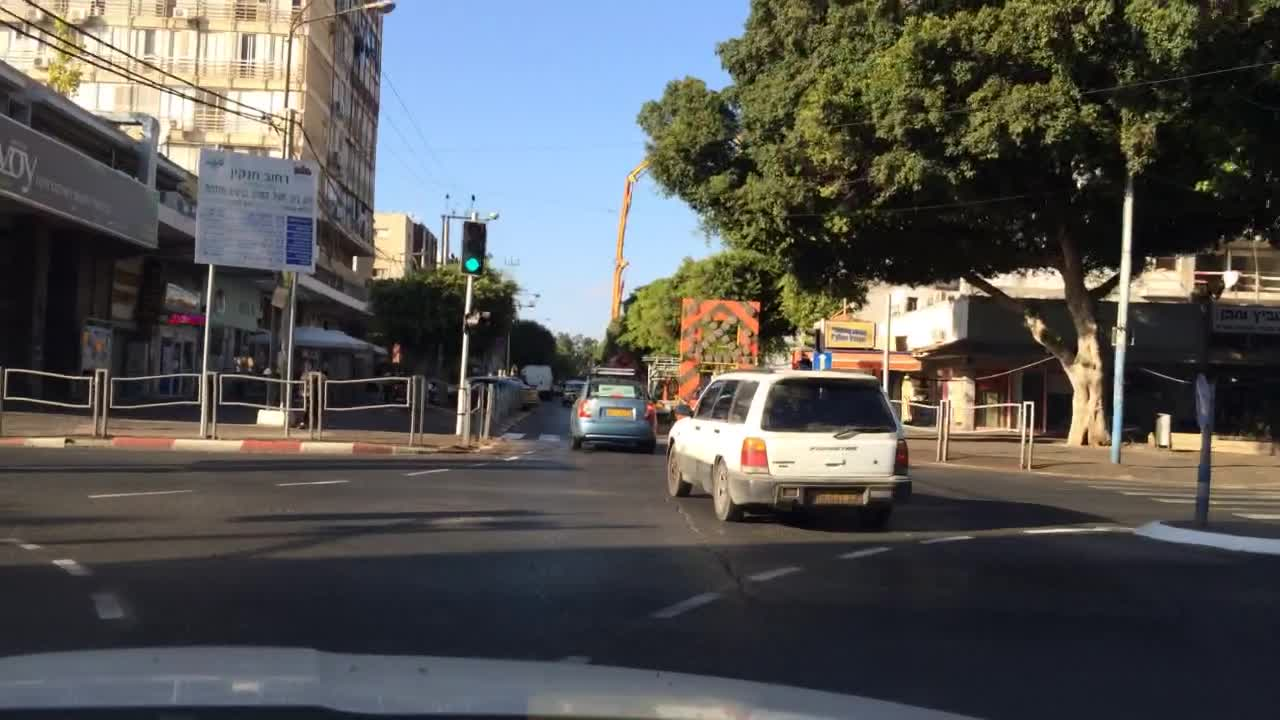car: (664, 368, 911, 521), (565, 365, 657, 454), (448, 371, 538, 409), (561, 380, 582, 404)
person: (1257, 398, 1278, 458), (381, 368, 394, 406)
traffic light: (459, 222, 487, 276), (802, 325, 823, 352)
traffic sign: (1194, 377, 1215, 428), (812, 353, 832, 368)
truck: (523, 362, 556, 401)
